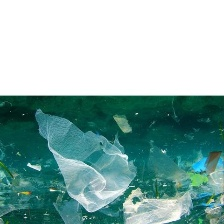plastic_bag: (31, 105, 140, 213), (118, 188, 198, 224), (145, 140, 192, 185), (50, 197, 84, 224)
